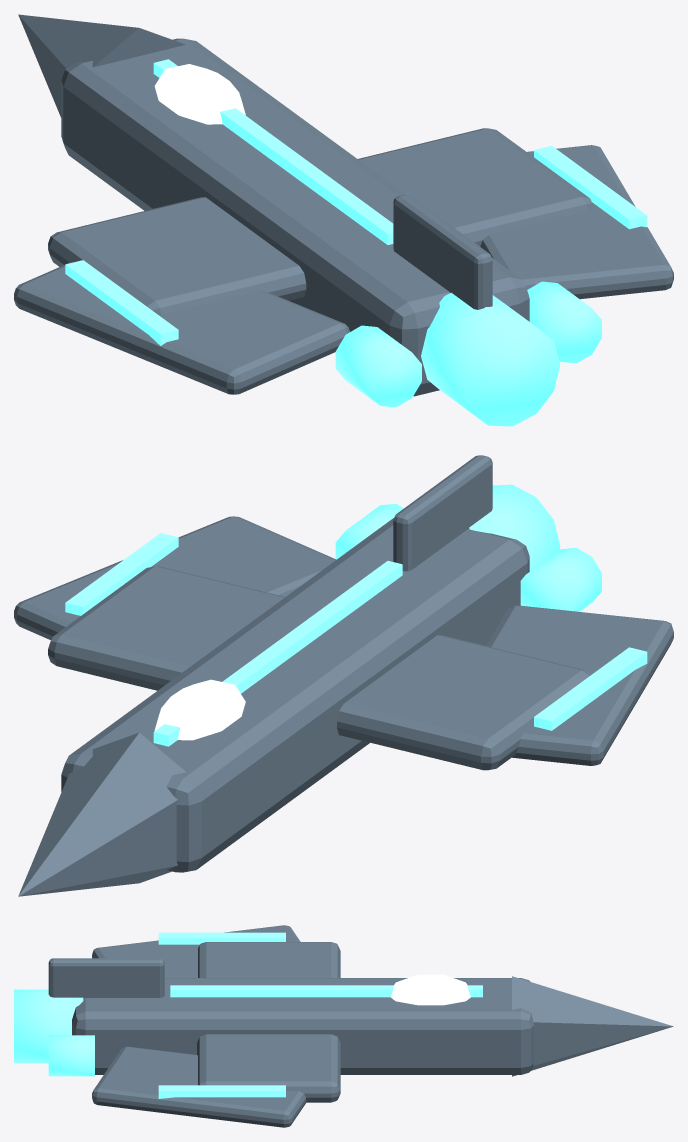
File: ship.glb
3 renders of one model, top to bottom at view 1: azimuth 30°, elevation 25°; view 2: azimuth 150°, elevation 25°; view 3: azimuth 270°, elevation 25°, orthographic. The views are drawn at different scales.
Visible parts, largest first — view 1: hull, wing, winglet, winglet.001, engine, fin, nose, engine_small, spine_glow, engine_small.001, cockpit, wing_glow (+1 smaller); view 2: hull, wing, nose, winglet, winglet.001, fin, spine_glow, engine_small, engine, cockpit, wing_glow, wing_glow.001 (+1 smaller); view 3: hull, wing, winglet.001, nose, fin, engine, spine_glow, winglet, cockpit, engine_small.001, wing_glow.001, wing_glow.
Part boxes in pixels (x1=…): hull: x1=61, y1=38, x2=529, y2=396; wing: x1=48, y1=128, x2=593, y2=314; winglet: x1=14, y1=262, x2=349, y2=394; winglet.001: x1=480, y1=145, x2=673, y2=299; engine: x1=421, y1=292, x2=560, y2=426; fin: x1=393, y1=195, x2=492, y2=309; nose: x1=18, y1=14, x2=185, y2=117; engine_small: x1=335, y1=325, x2=421, y2=407; spine_glow: x1=153, y1=59, x2=393, y2=244; engine_small.001: x1=527, y1=281, x2=601, y2=363; cockpit: x1=154, y1=64, x2=245, y2=124; wing_glow: x1=65, y1=260, x2=178, y2=345; hull: x1=61, y1=518, x2=529, y2=872; wing: x1=48, y1=566, x2=591, y2=770; nose: x1=18, y1=732, x2=185, y2=896; winglet: x1=486, y1=605, x2=673, y2=765; winglet.001: x1=14, y1=516, x2=336, y2=640; fin: x1=393, y1=455, x2=492, y2=571; spine_glow: x1=153, y1=561, x2=402, y2=746; engine_small: x1=520, y1=547, x2=601, y2=611; engine: x1=469, y1=484, x2=560, y2=571; cockpit: x1=154, y1=679, x2=245, y2=740; wing_glow: x1=534, y1=647, x2=647, y2=730; wing_glow.001: x1=65, y1=533, x2=178, y2=615; hull: x1=72, y1=978, x2=533, y2=1074; wing: x1=197, y1=942, x2=340, y2=1102; winglet.001: x1=92, y1=1046, x2=306, y2=1127; nose: x1=512, y1=976, x2=673, y2=1076; fin: x1=48, y1=958, x2=164, y2=998; engine: x1=14, y1=989, x2=83, y2=1063; spine_glow: x1=170, y1=985, x2=482, y2=997; winglet: x1=92, y1=925, x2=300, y2=977; cockpit: x1=390, y1=974, x2=470, y2=1005; engine_small.001: x1=48, y1=1035, x2=94, y2=1076; wing_glow.001: x1=158, y1=1085, x2=285, y2=1098; wing_glow: x1=158, y1=932, x2=285, y2=944.
Size of the model in its own units: 1.95 by 0.56 by 2.85.
